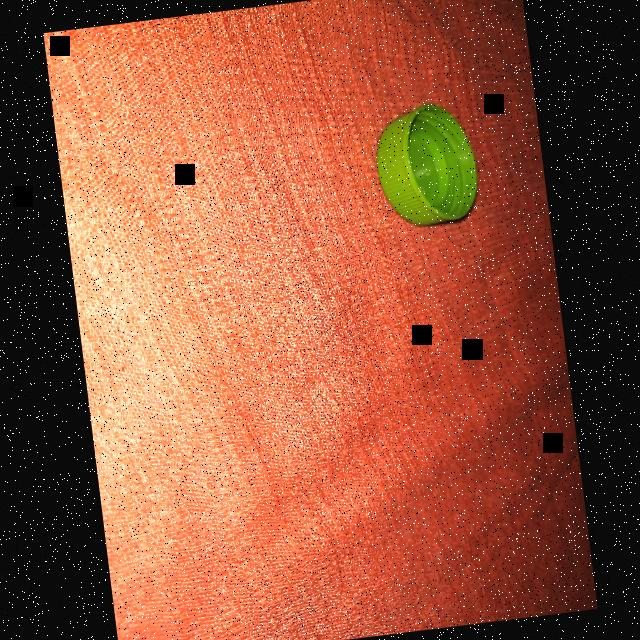plastic_bottle_cap: (370, 100, 484, 230)
